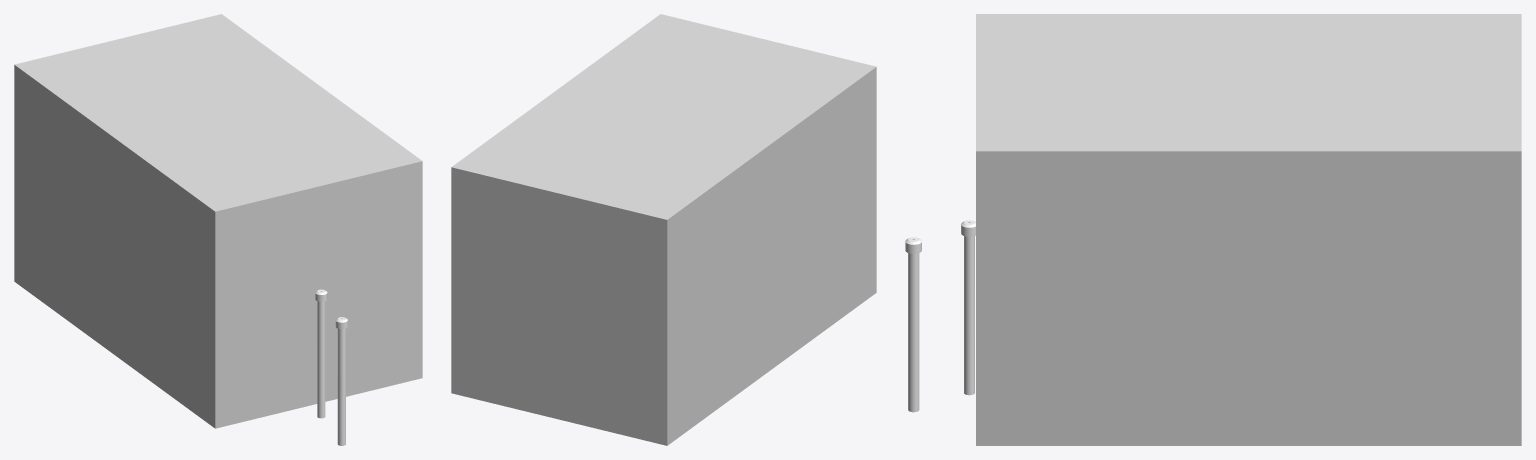
File: finish platform.fbx
3 views of the same model, side by side, from view 1: azimuth 30°, elevation 25°; view 2: azimuth 150°, elevation 25°; view 3: azimuth 270°, elevation 25° (orthographic). The views are drawn at different scales.
Visible parts, largest first — view 1: finish platform, konfeti silindir, konfeti silindir.001; view 2: finish platform; view 3: finish platform, konfeti silindir.001.
Boxes of the visible parts, box(x1,y1,x2,y2) form: finish platform: box(14, 14, 422, 428); konfeti silindir: box(315, 289, 345, 445); konfeti silindir.001: box(318, 289, 347, 445); finish platform: box(451, 14, 876, 445); finish platform: box(976, 14, 1521, 445); konfeti silindir.001: box(905, 220, 975, 412).
Bounding box in the file's own units: 200 × 222 × 379.
